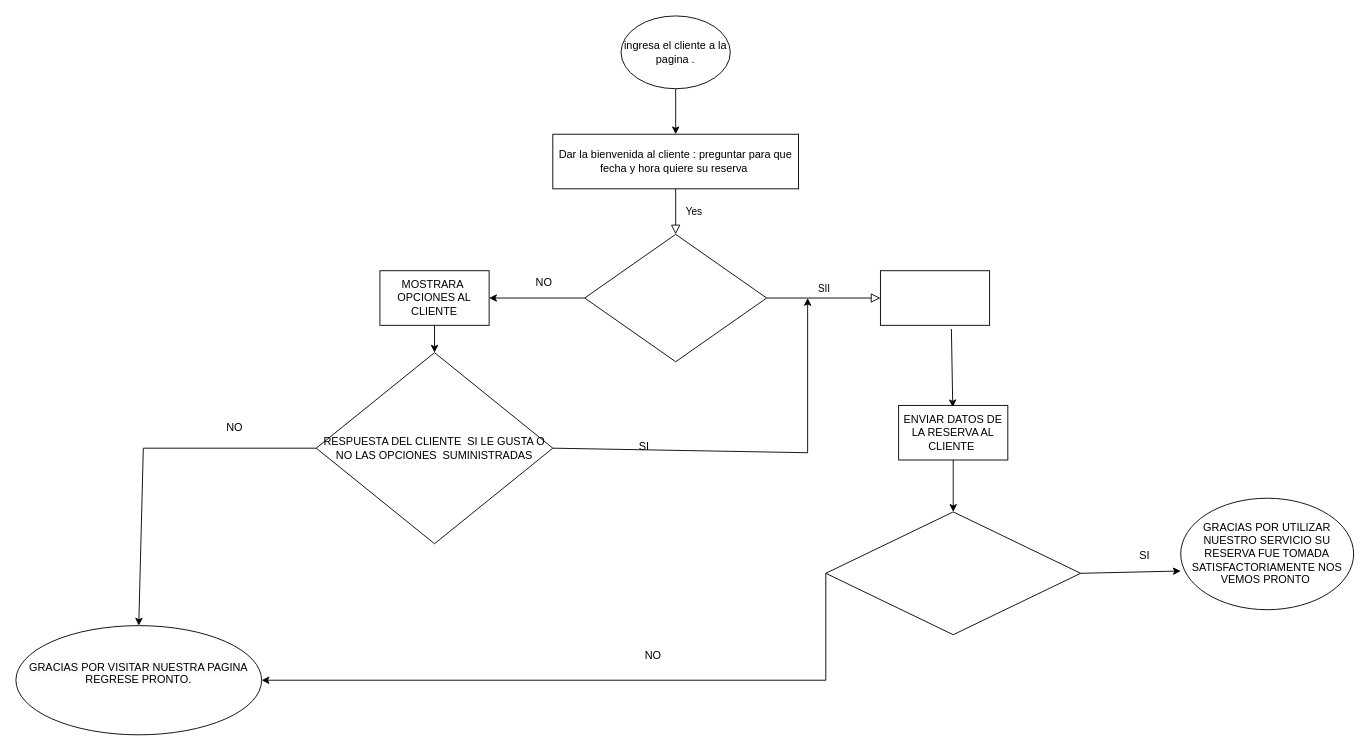
Some shapes in this 1370 by 751 pixel diagram are drawn without their labels. The centre of each missing label's shape, as x and y in pixels:
"el sistema evaluara si tienen disponibilidad para esa hora y fecha ." belongs at (x=675, y=297).
"ESPERAR LA RESPUESTA DEL CLIENTE : SI TOMA LA RESERVA O N O" belongs at (x=953, y=573).
"PEDIR LOS DATOS DE LA RESERVSA" belongs at (x=935, y=297).
